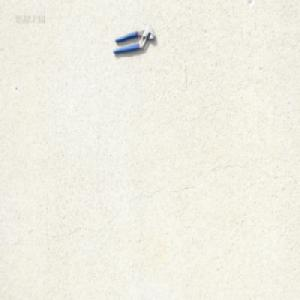Pliers: (112, 25, 156, 54)
